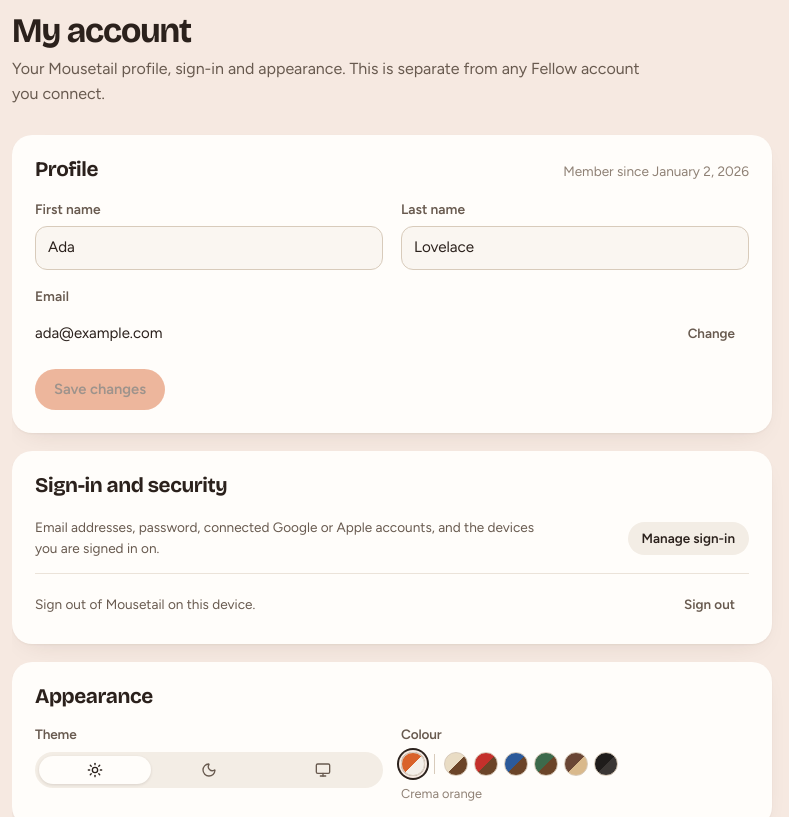
Account page › sends trimmed names to the server and takes the profile it returns
The image size is (789, 817).
Replace the text in the field labelled "First name" with "  Augusta " at (209, 248), box [35,226,383,270]
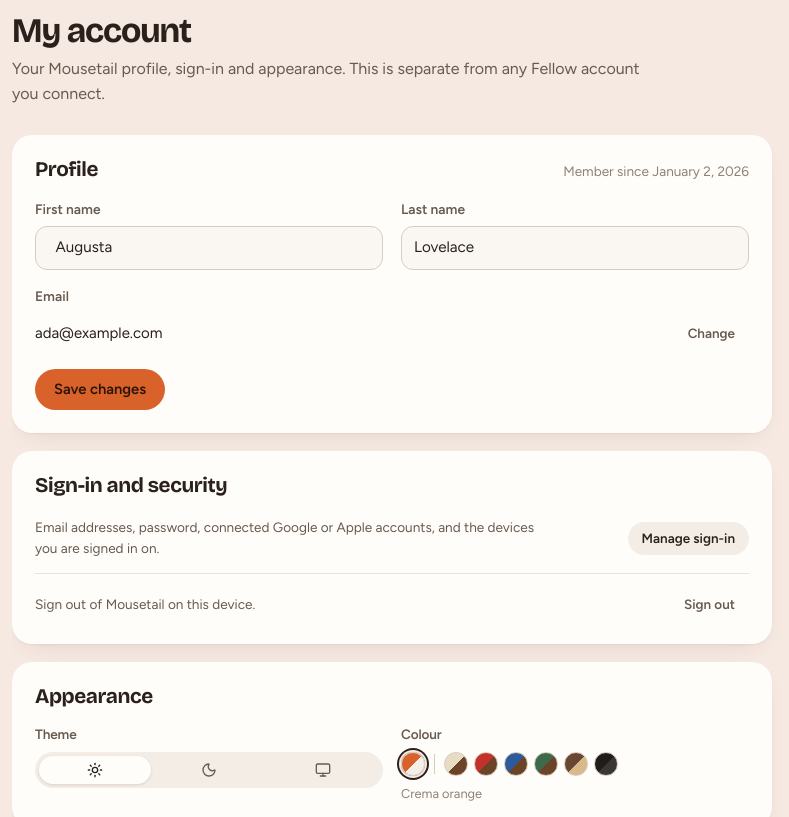
Click the button "Save changes" at (100, 390), box [35,369,165,410]
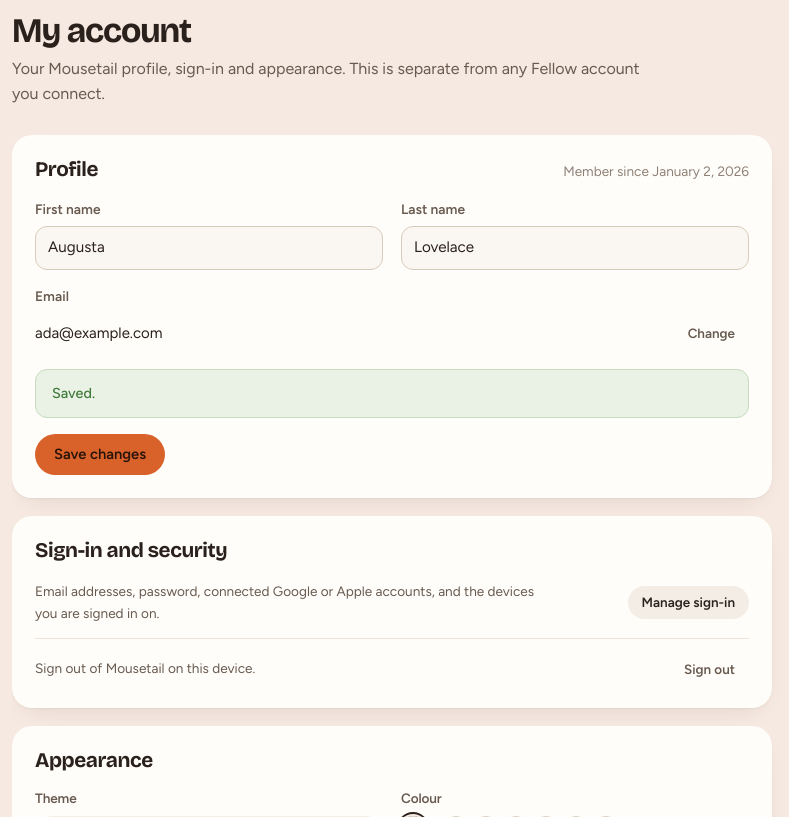
Now the text "Saved." is shown, box [35,369,749,418]
